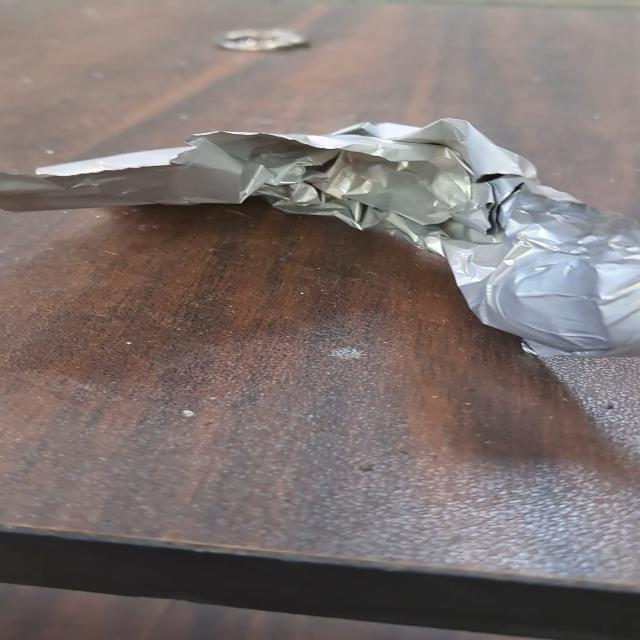Anorganik: (0, 115, 640, 368)
